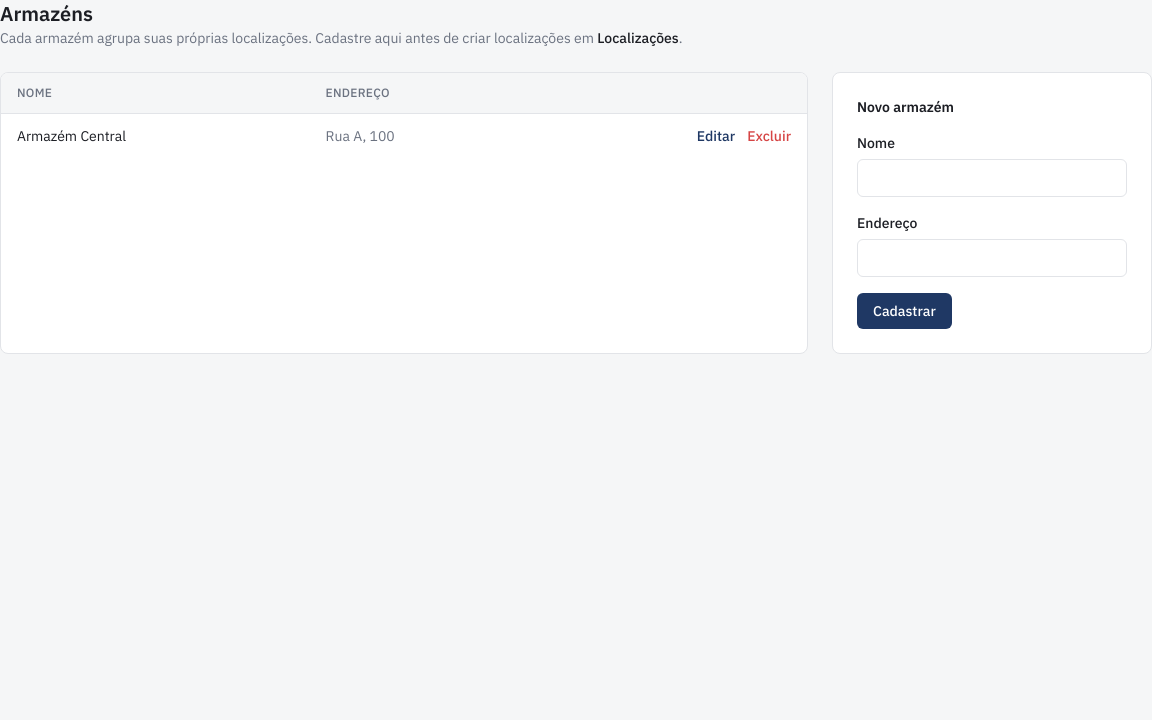
Test: ArmazensPage › mostra erro ao excluir um armazém que já tem localizações associadas
The width and height of the screenshot is (1152, 720).
Click the button "Excluir".
click(769, 136)  # box top-left (747, 126), bottom-right (791, 146)
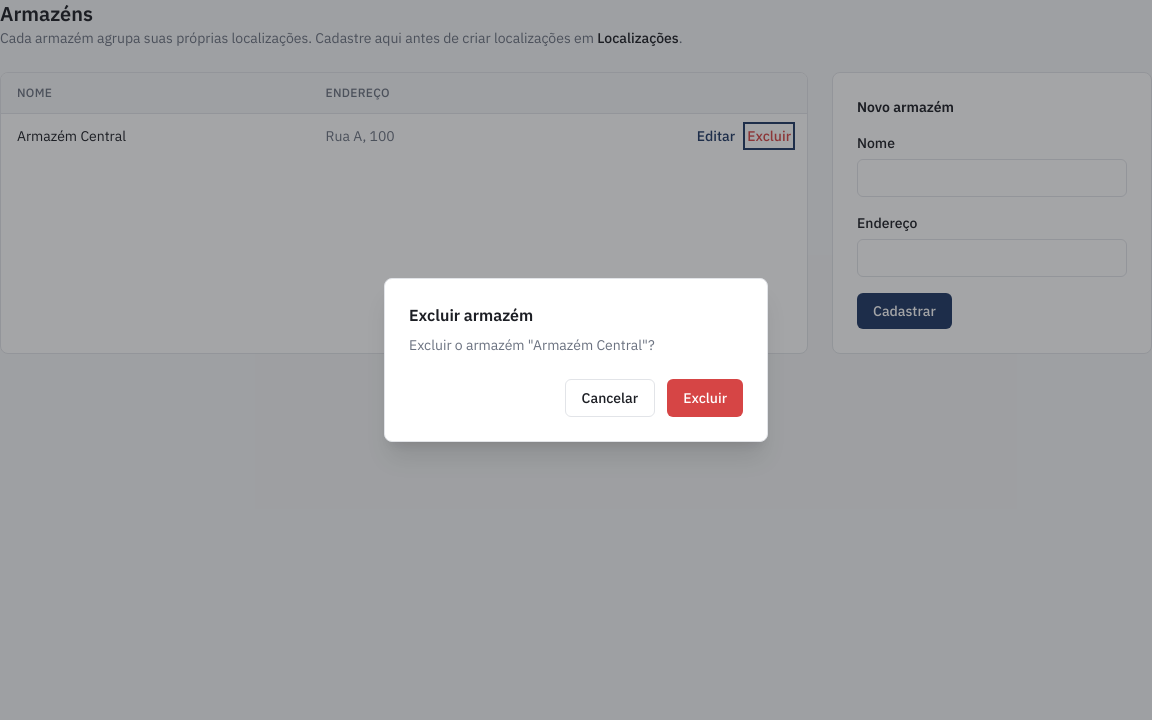
Click the button "Excluir".
click(705, 398)  # box top-left (667, 379), bottom-right (743, 417)
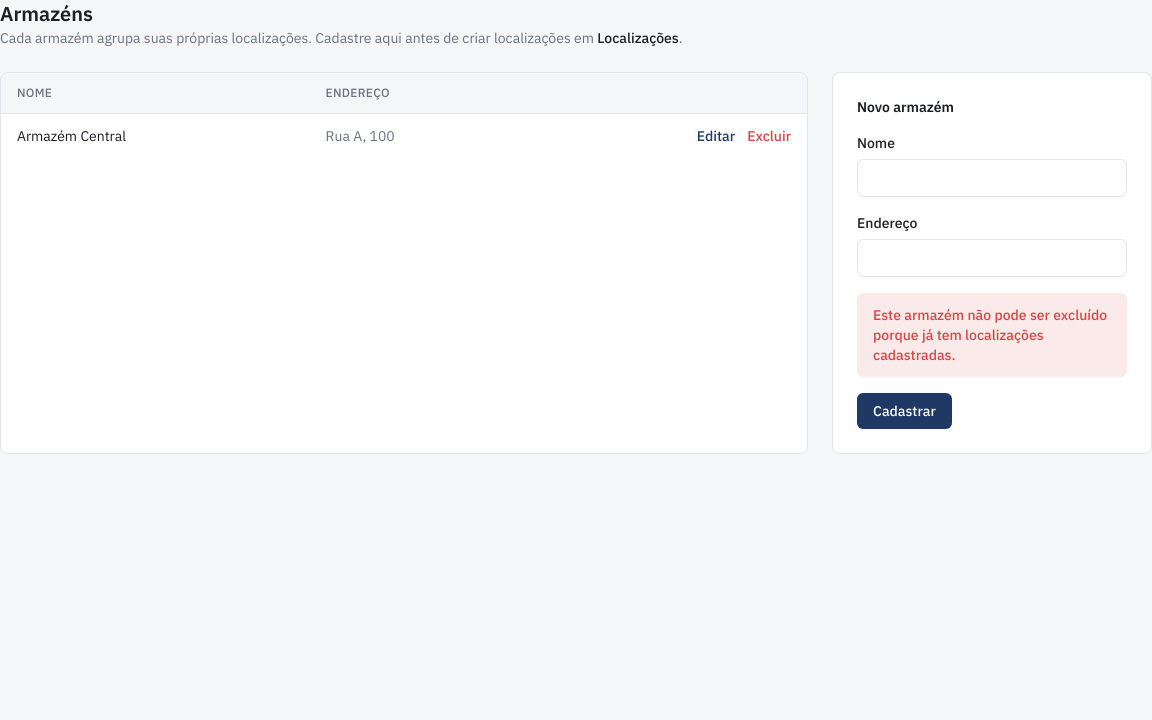
Now the text "Este armazém não pode ser excluído porque já tem localizações cadastradas." is shown, box top-left (857, 293), bottom-right (1127, 377)
